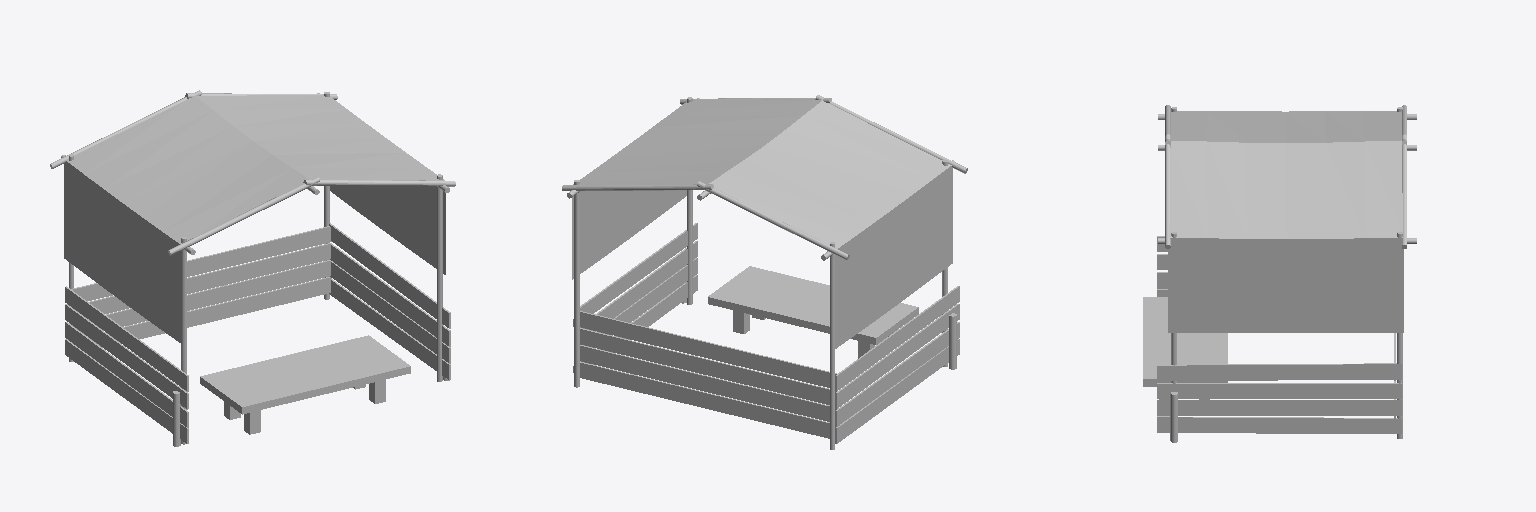
Rendered from medieval_tent_1_004.obj.
The picture shows the model from 3 angles: view 1: azimuth 30°, elevation 25°; view 2: azimuth 150°, elevation 25°; view 3: azimuth 270°, elevation 25°; orthographic projection.
Parts seen in each view (by area): view 1: ClothArched_ClothArched_Plane.000, BaseBoards_BaseBoards_Cube.013, Table, PolesArched_PolesArched_Cylinder.019; view 2: ClothArched_ClothArched_Plane.000, BaseBoards_BaseBoards_Cube.013, Table, PolesArched_PolesArched_Cylinder.019; view 3: ClothArched_ClothArched_Plane.000, BaseBoards_BaseBoards_Cube.013, Table, PolesArched_PolesArched_Cylinder.019.
Boxes of the visible parts, <box> form: ClothArched_ClothArched_Plane.000: <box>64,95,445,343</box>; BaseBoards_BaseBoards_Cube.013: <box>65,223,450,443</box>; Table: <box>200,335,410,434</box>; PolesArched_PolesArched_Cylinder.019: <box>50,90,455,446</box>; ClothArched_ClothArched_Plane.000: <box>572,100,952,348</box>; BaseBoards_BaseBoards_Cube.013: <box>573,223,959,443</box>; Table: <box>708,266,918,358</box>; PolesArched_PolesArched_Cylinder.019: <box>562,95,967,449</box>; ClothArched_ClothArched_Plane.000: <box>1168,111,1403,332</box>; BaseBoards_BaseBoards_Cube.013: <box>1157,236,1401,433</box>; Table: <box>1143,297,1227,399</box>; PolesArched_PolesArched_Cylinder.019: <box>1158,105,1416,442</box>.
Bounding box in the file's own units: 2.34 × 1.85 × 1.94.